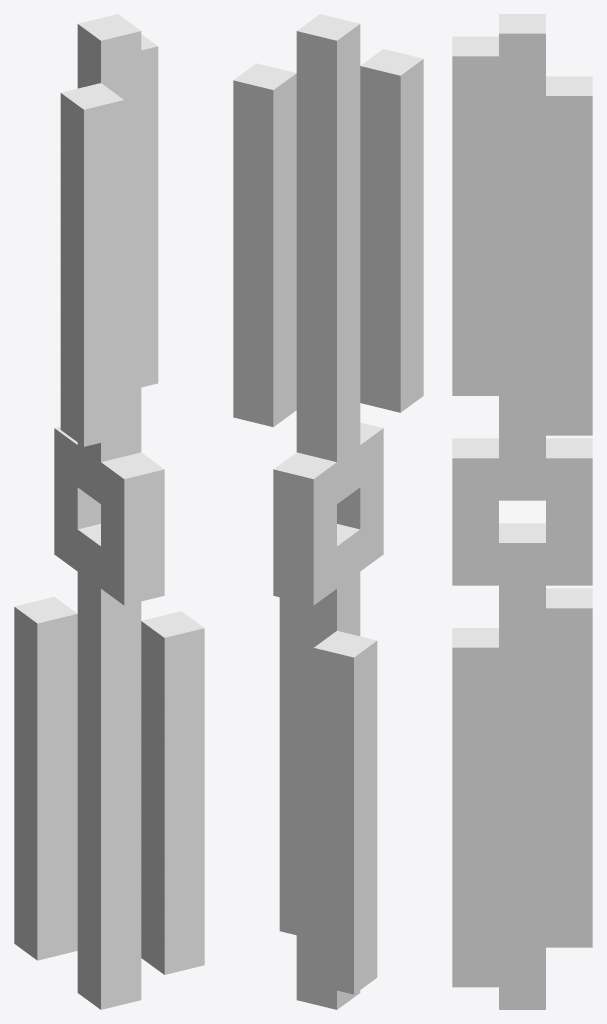
The model's file is propeller.gltf.
3 views of the same model, side by side, from view 1: azimuth 30°, elevation 25°; view 2: azimuth 150°, elevation 25°; view 3: azimuth 270°, elevation 25° (orthographic).
Bounding box in the file's own units: 3 × 23 × 3.
1 material, 1 textured.
